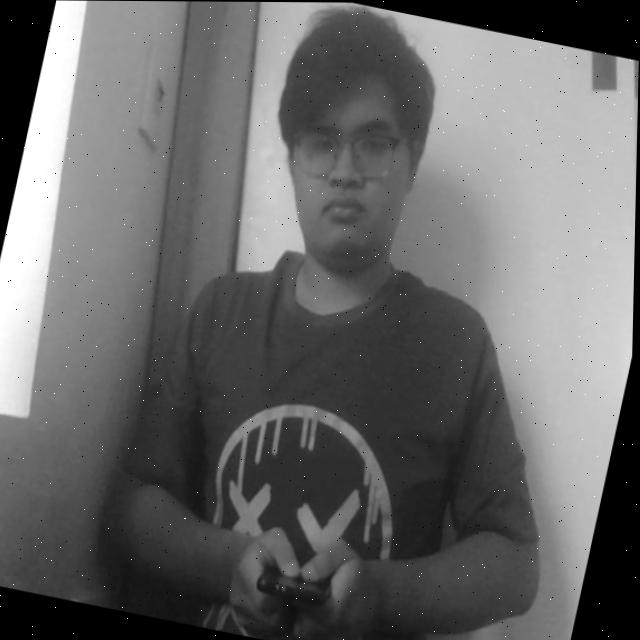phone: (239, 518, 360, 640)
